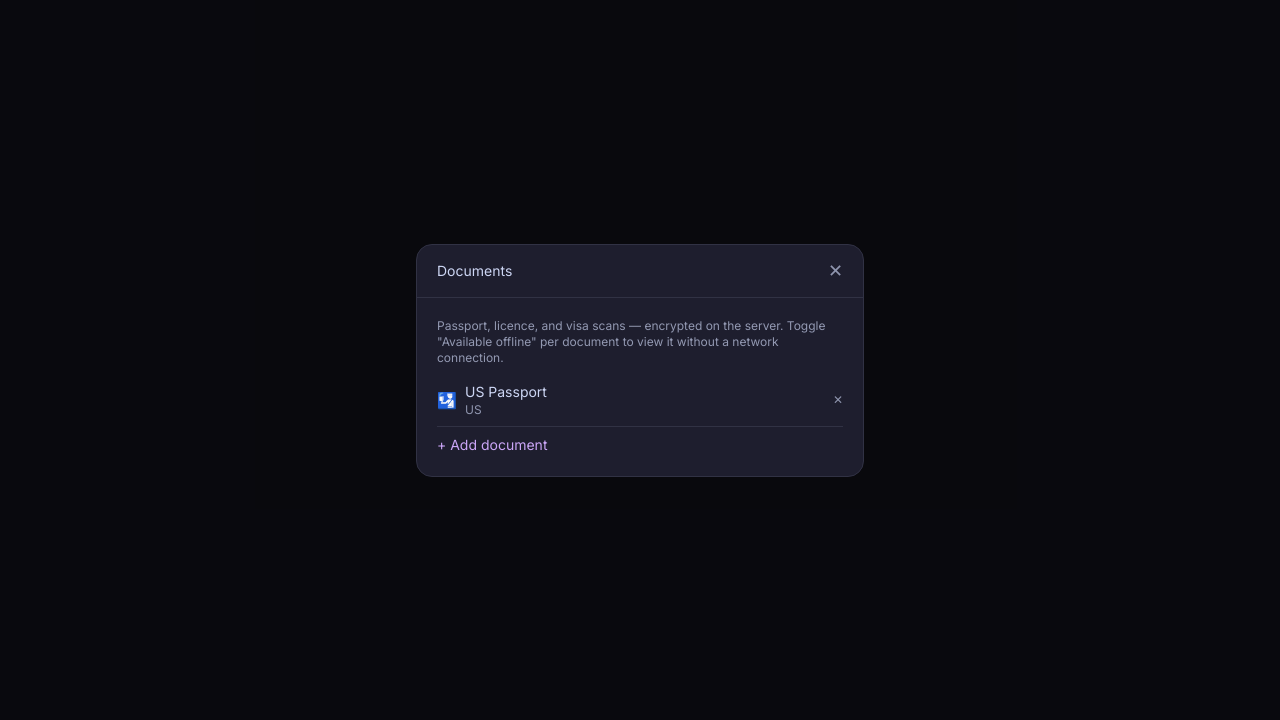
Test case: Passport scan › a failed scan shows the error and leaves the row usable to retry
The image size is (1280, 720).
Click the text "US Passport".
click(506, 391)  # box [465,382,547,400]
(page scrolled)
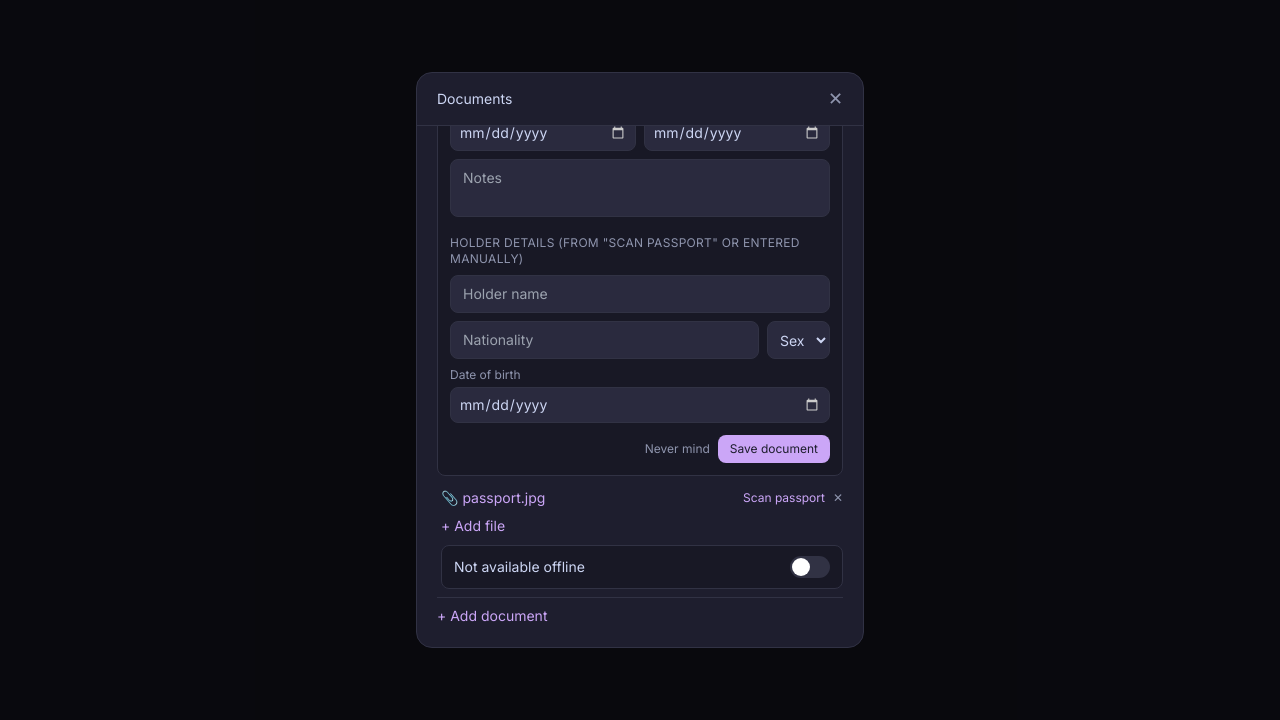
Check: the button "Save document" is shown, box [718,435,830,463]
Click the button "Scan passport".
click(784, 498)  # box [743,490,825,506]
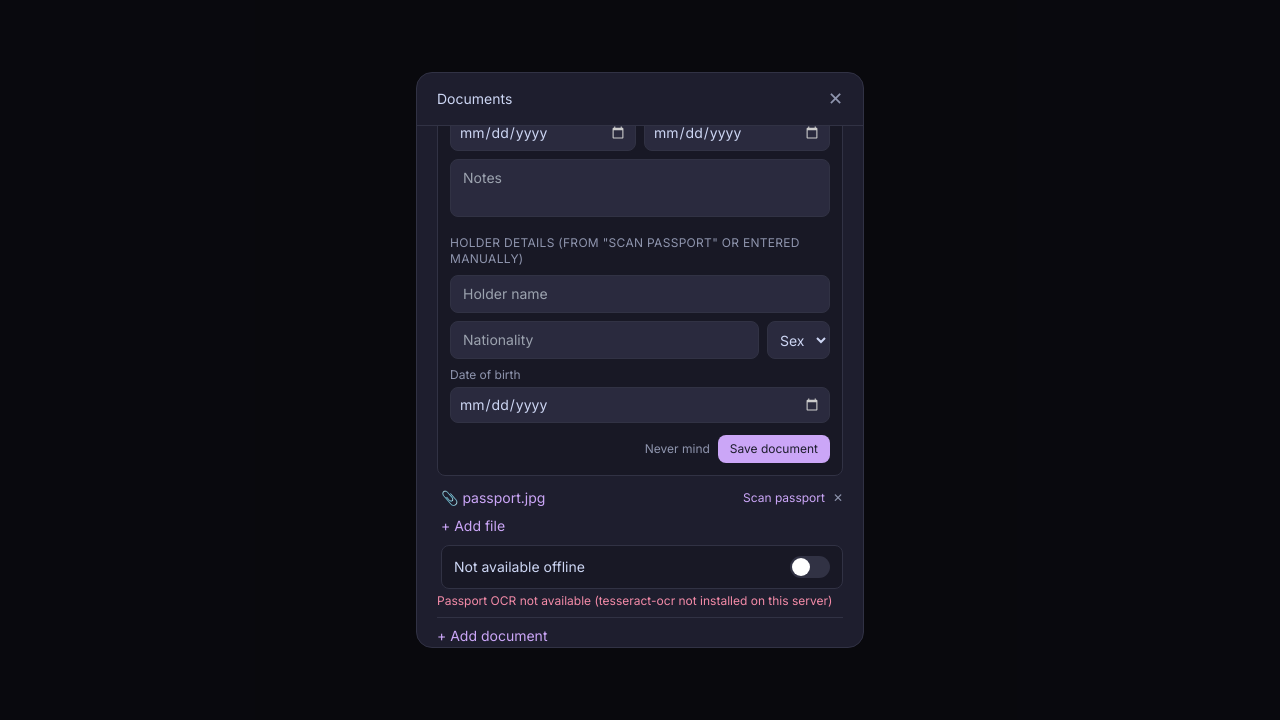
Check: the button "Scan passport" is shown, box [743,490,825,506]
Check: the text "tesseract-ocr not installed" is shown, box [437,593,832,608]
